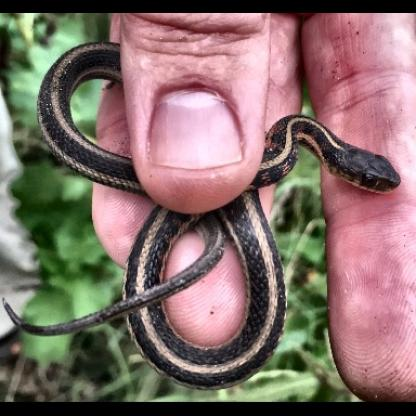Snake: (27, 31, 407, 387)
